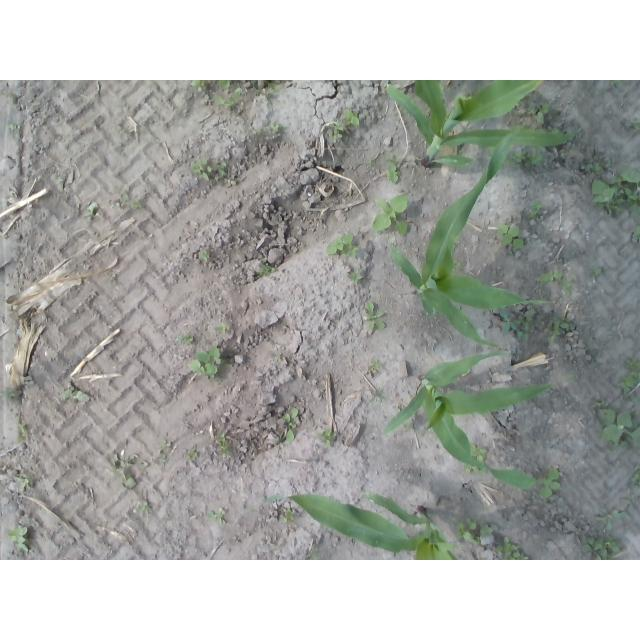Maize: (386, 130, 554, 354), (385, 351, 572, 490), (383, 81, 582, 168), (245, 484, 462, 560)
Weeds: (587, 162, 640, 215), (596, 401, 640, 456), (374, 195, 409, 236), (500, 306, 537, 342), (512, 102, 549, 131), (455, 516, 493, 544), (188, 347, 222, 378), (580, 536, 621, 560), (537, 268, 572, 296), (110, 454, 136, 491), (502, 146, 542, 170), (593, 505, 628, 531), (190, 158, 227, 181), (326, 234, 360, 259), (537, 468, 563, 500), (464, 442, 488, 475), (495, 223, 525, 249), (278, 408, 299, 445), (496, 536, 528, 560), (620, 357, 640, 395), (364, 302, 386, 331), (547, 317, 571, 343), (7, 525, 29, 552), (250, 80, 278, 101), (385, 153, 403, 184), (214, 88, 243, 107), (116, 191, 143, 209), (316, 428, 337, 449), (207, 509, 227, 528), (215, 434, 233, 455), (62, 387, 87, 402), (256, 262, 276, 279), (158, 440, 171, 465), (326, 121, 344, 139), (256, 122, 282, 134), (348, 270, 365, 287), (344, 109, 361, 125), (528, 201, 542, 220), (16, 423, 28, 442), (189, 80, 208, 92), (82, 201, 98, 215), (177, 334, 194, 347), (15, 475, 30, 489), (587, 265, 601, 279), (282, 508, 295, 523), (135, 501, 149, 514), (630, 469, 640, 487), (627, 117, 640, 130), (0, 389, 16, 399), (5, 123, 20, 133), (622, 493, 637, 503), (633, 224, 640, 245), (369, 360, 382, 371), (215, 323, 229, 333), (199, 250, 210, 262), (186, 449, 199, 459), (375, 390, 385, 403), (451, 259, 461, 271), (219, 80, 232, 88), (309, 552, 319, 561), (225, 179, 237, 186), (610, 80, 624, 86), (55, 177, 66, 184), (550, 128, 561, 134)
